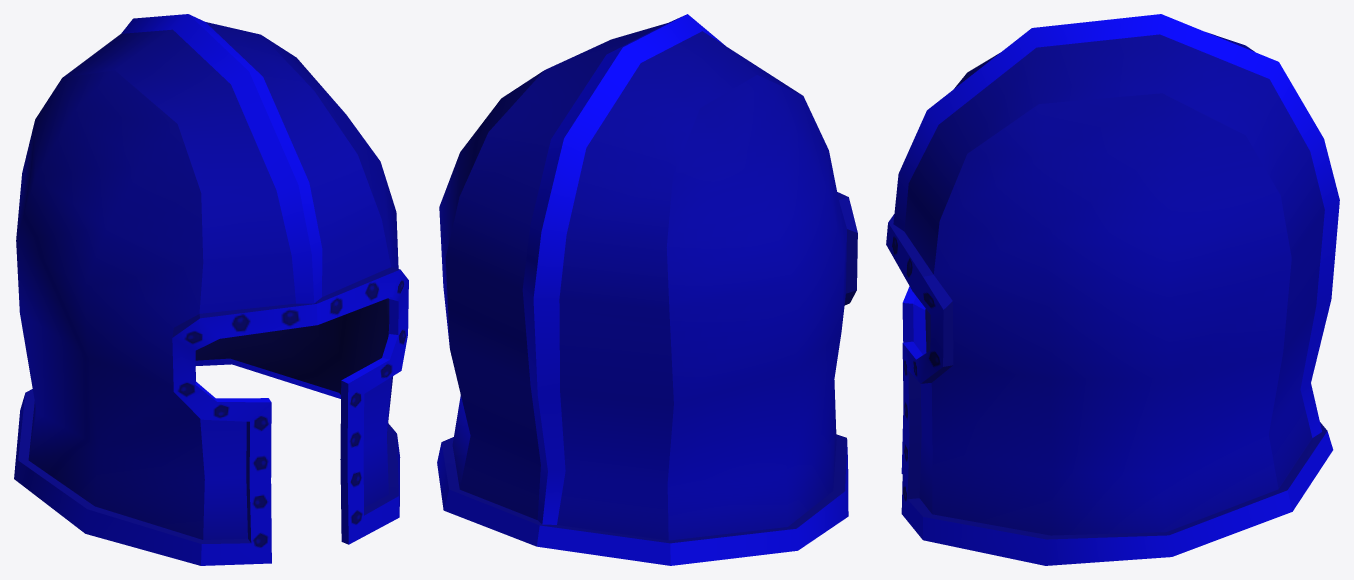
File: BarbuteHelm.fbx
3 views of the same model, side by side, from view 1: azimuth 30°, elevation 25°; view 2: azimuth 150°, elevation 25°; view 3: azimuth 270°, elevation 25° (orthographic). The views are drawn at different scales.
Visible parts, largest first — view 1: BarbuteHelm; view 2: BarbuteHelm; view 3: BarbuteHelm.
Part boxes in pixels (box(x1,y1,x2,y2)): BarbuteHelm: box(14, 14, 408, 565); BarbuteHelm: box(437, 14, 857, 565); BarbuteHelm: box(886, 14, 1339, 565).
Bounding box in the file's own units: 27.7 × 35.24 × 30.18.
